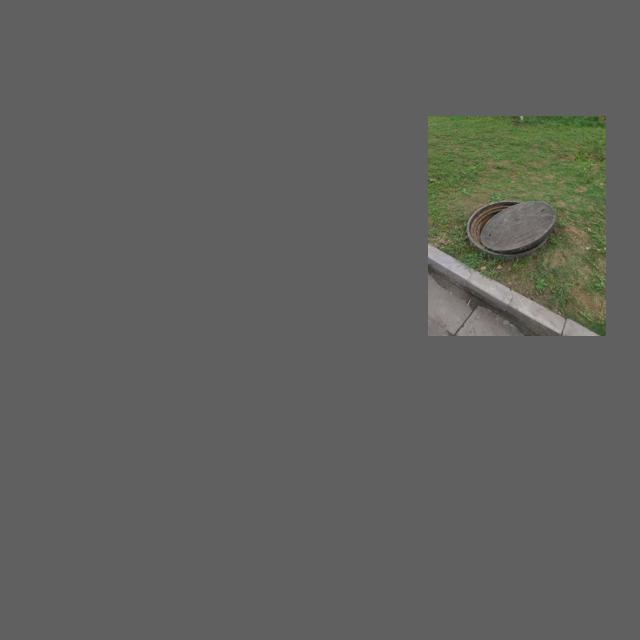uncovered: (465, 200, 556, 259)
